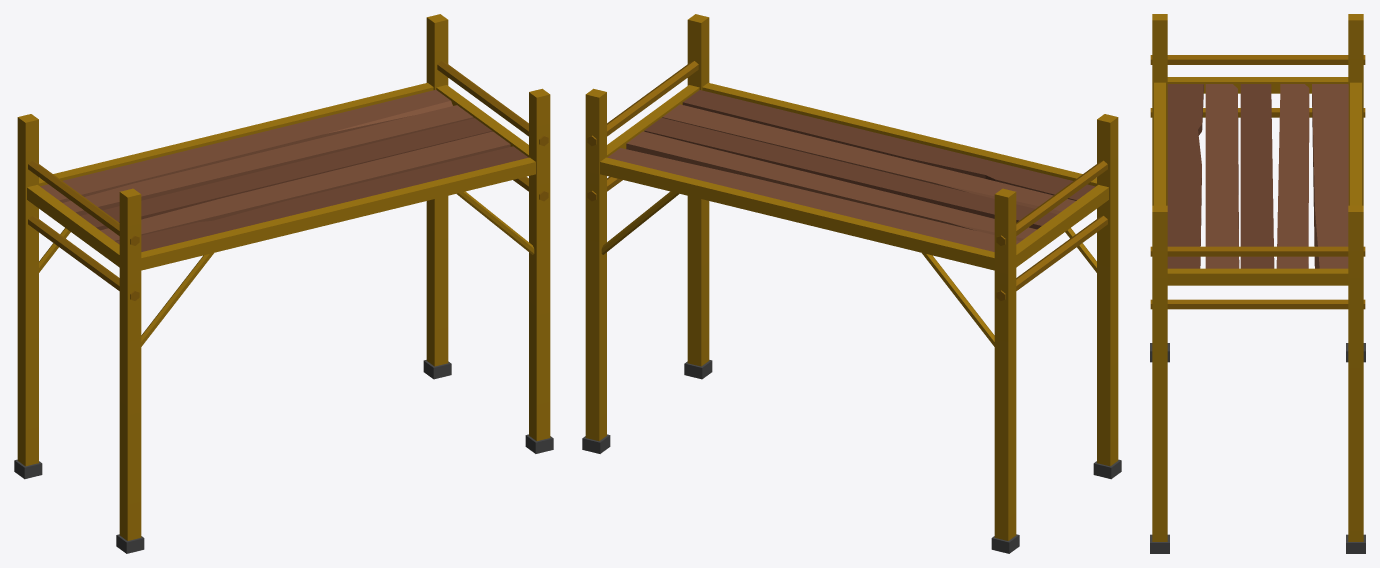
File: Scaffolding_03.fbx
The picture shows the model from 3 angles, left to right: view 1: azimuth 30°, elevation 25°; view 2: azimuth 150°, elevation 25°; view 3: azimuth 270°, elevation 25°; orthographic projection. The views are drawn at different scales.
Visible parts, largest first — view 1: Scaffolding_03; view 2: Scaffolding_03; view 3: Scaffolding_03.
Part boxes in pixels (x1,y1,x2,y2): Scaffolding_03: (14,14,553,553); Scaffolding_03: (582,14,1121,553); Scaffolding_03: (1150,14,1365,553).
Bounding box in the file's own units: 315 × 250 × 143.
